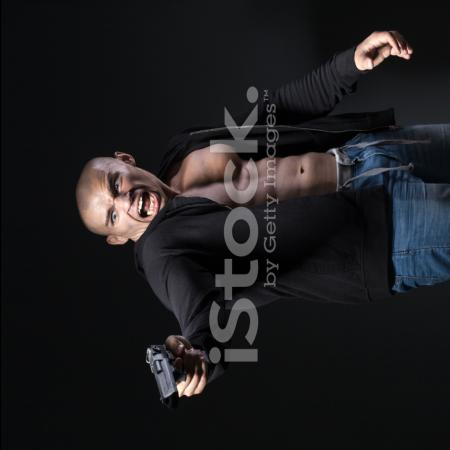Pistol: (144, 345, 190, 411)
